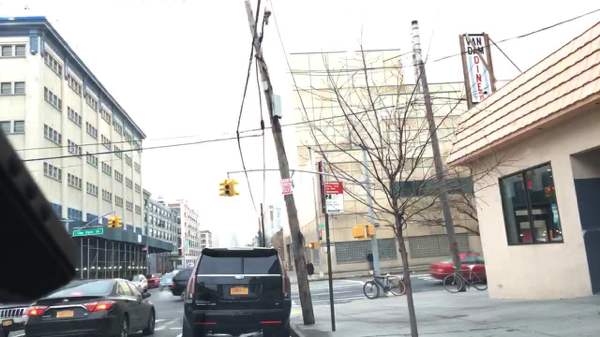bike: (362, 270, 406, 300), (442, 265, 487, 294)
car: (180, 246, 292, 337), (23, 276, 156, 337), (427, 252, 487, 283), (1, 301, 37, 337), (170, 267, 193, 298), (122, 274, 148, 293), (157, 272, 177, 291), (147, 272, 163, 288)
person: (305, 259, 315, 282), (365, 250, 374, 272)
traffic light: (352, 227, 365, 239), (365, 224, 375, 239), (224, 180, 232, 195), (233, 180, 240, 195), (308, 241, 319, 250), (219, 182, 223, 197), (107, 217, 111, 229), (118, 216, 122, 228), (112, 218, 116, 228)
traffic sign: (323, 194, 346, 215), (324, 180, 344, 195), (72, 228, 104, 237), (317, 224, 324, 229)
